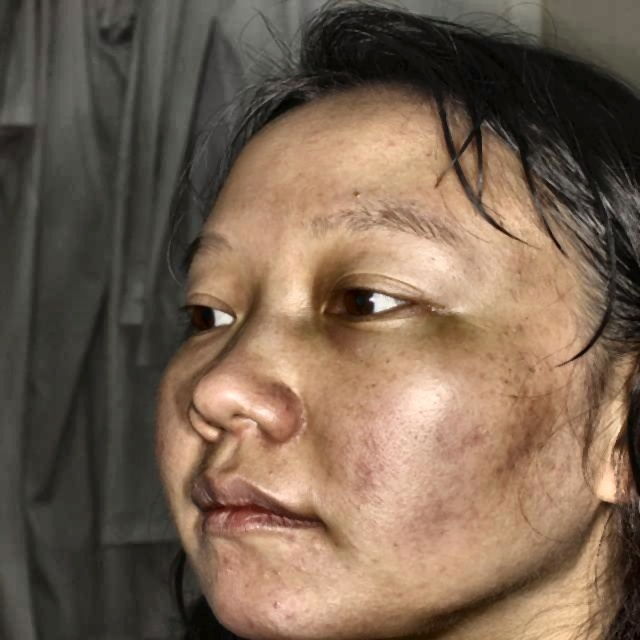comedone: (216, 592, 245, 622)
